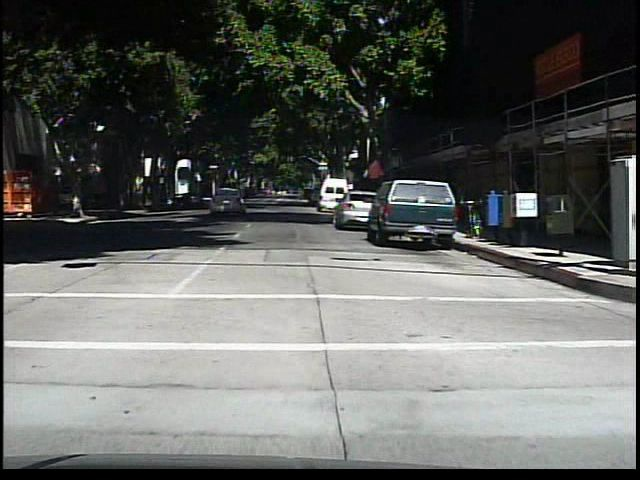person: (64, 181, 81, 218)
